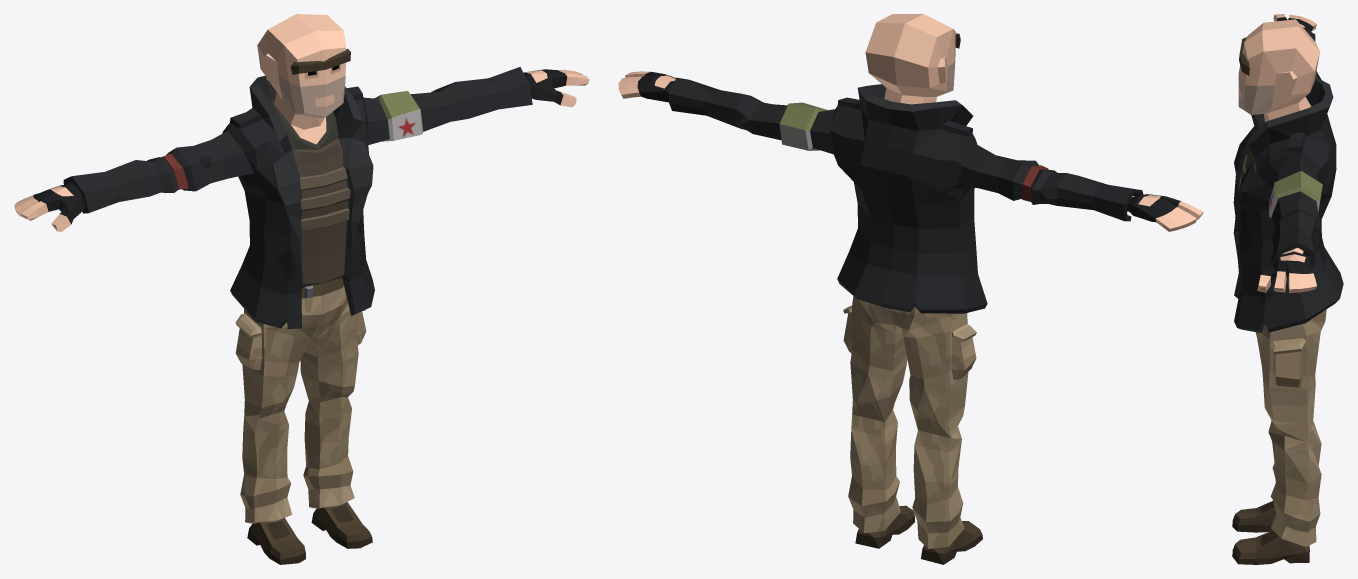
Rendered from SM_Chr_Insurgent_Male_04.fbx.
3 views of the same model, side by side, from view 1: azimuth 30°, elevation 25°; view 2: azimuth 150°, elevation 25°; view 3: azimuth 270°, elevation 25° (orthographic). The views are drawn at different scales.
Visible parts, largest first — view 1: SM_Chr_Insurgent_Male_04; view 2: SM_Chr_Insurgent_Male_04; view 3: SM_Chr_Insurgent_Male_04.
Boxes of the visible parts, x1,y1,x2,y2 form: SM_Chr_Insurgent_Male_04: (14, 14, 589, 564); SM_Chr_Insurgent_Male_04: (618, 14, 1203, 564); SM_Chr_Insurgent_Male_04: (1232, 14, 1343, 564).
Bounding box in the file's own units: 205 × 179 × 35.09.
